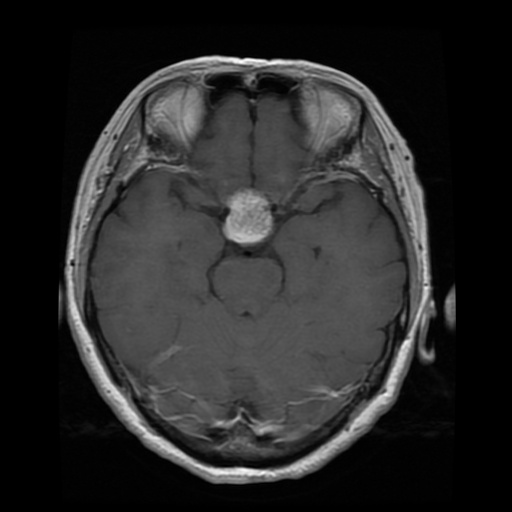pituitary: (224, 187, 276, 244)
